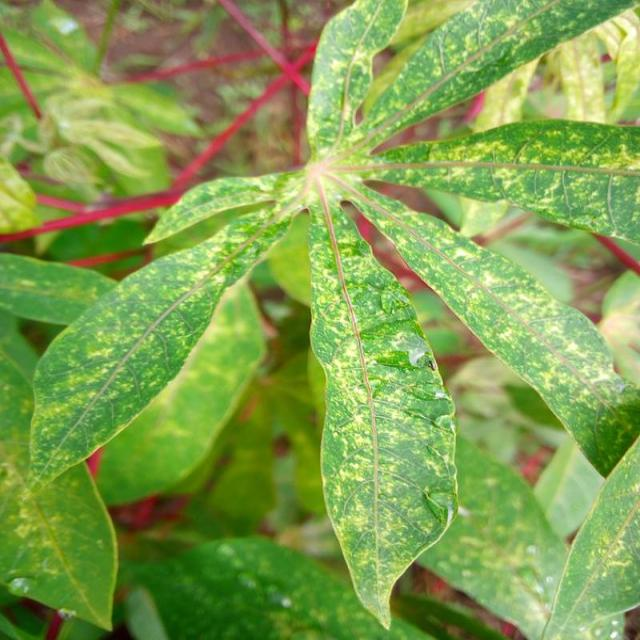cassava leaf: (21, 0, 638, 636), (305, 187, 459, 630)
